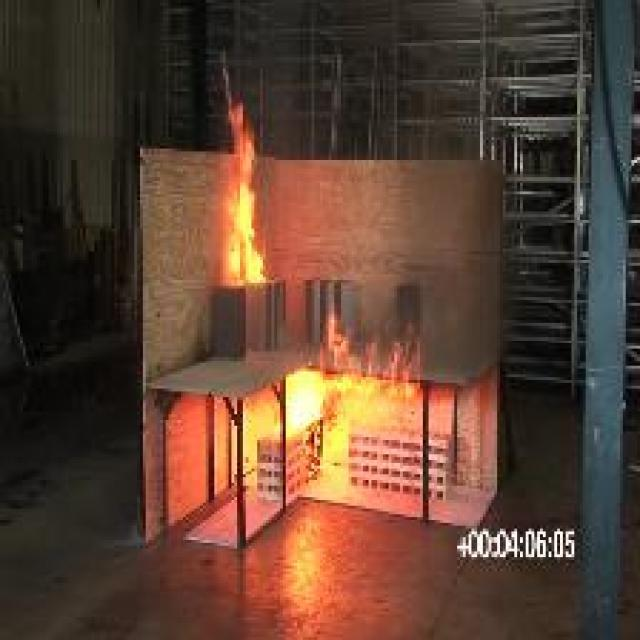Fire: (288, 314, 418, 469), (223, 80, 266, 283)
